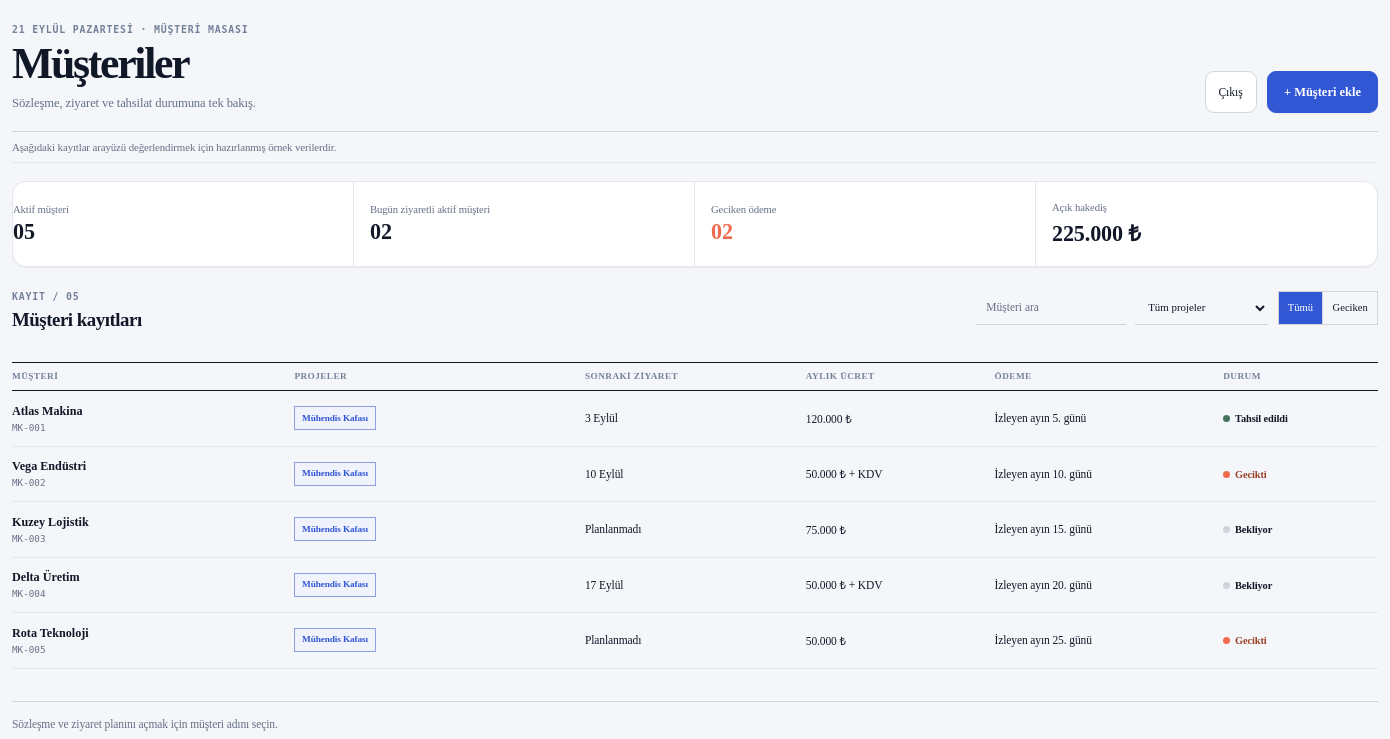
HomeScreen › opens date-based contract and monthly visit planning from a customer row
This screenshot has width=1390, height=739.
Click the button "Atlas Makina MK-001" at (77, 418), box [12,404,142,433]
(page scrolled)
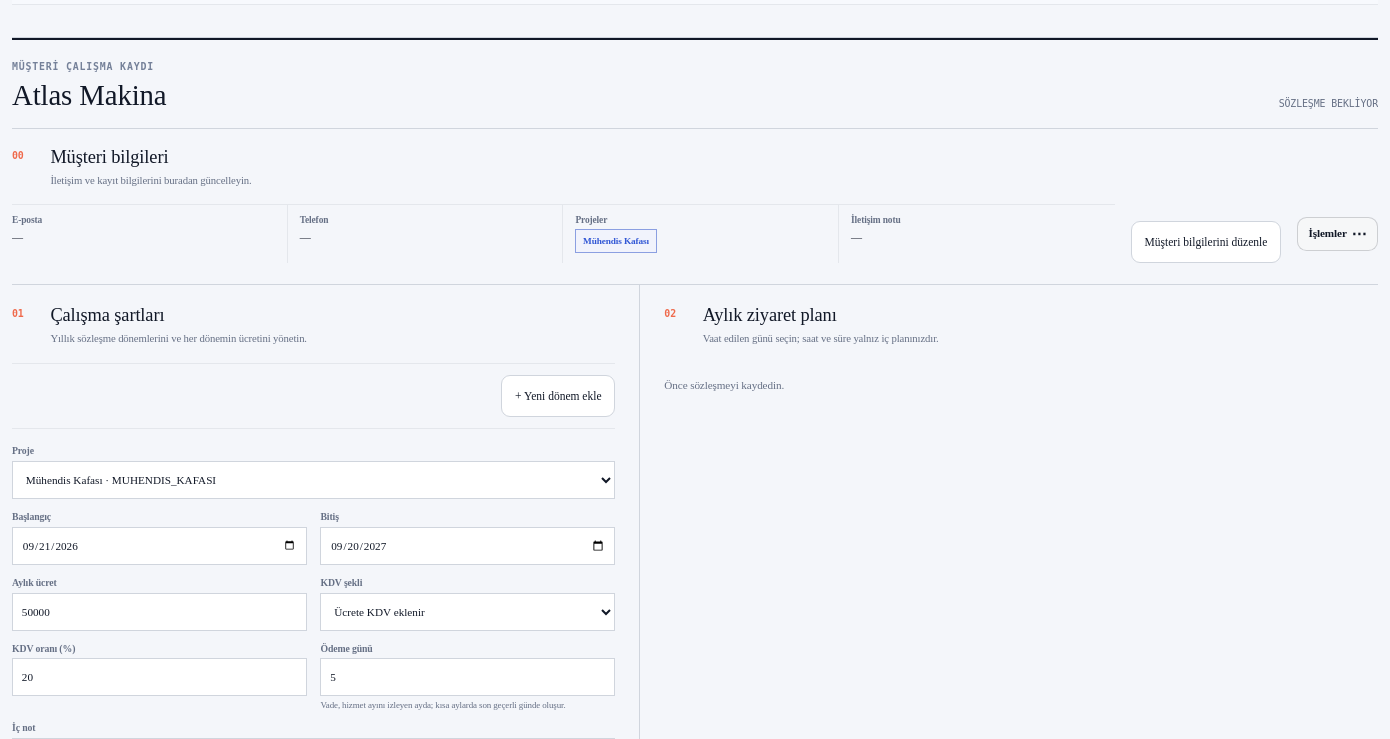
Result: the text "Önce sözleşmeyi kaydedin." is shown at [664,379,784,391]
